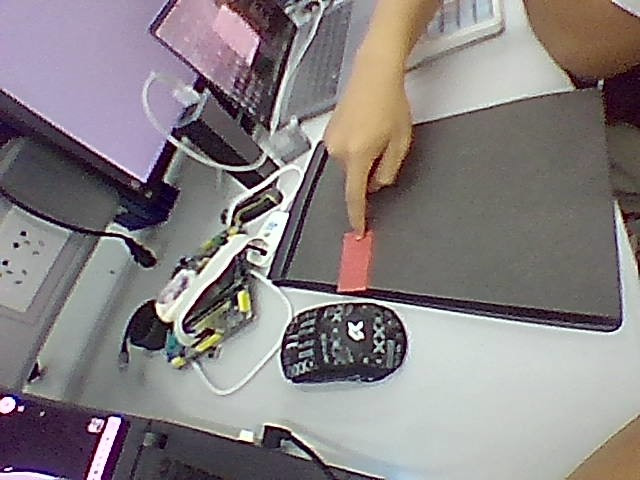card: (337, 232, 373, 291)
